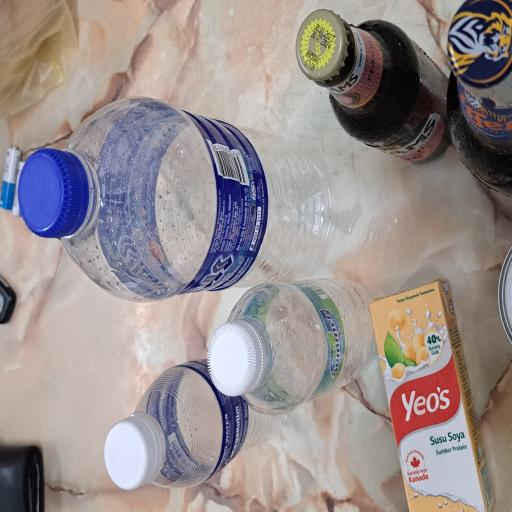glass bottle: (259, 396, 380, 512)
plastic bottle: (163, 84, 310, 438), (66, 312, 176, 510), (18, 188, 116, 394)
plastic bottle cap: (204, 24, 273, 120), (87, 275, 146, 359), (17, 141, 71, 218)
